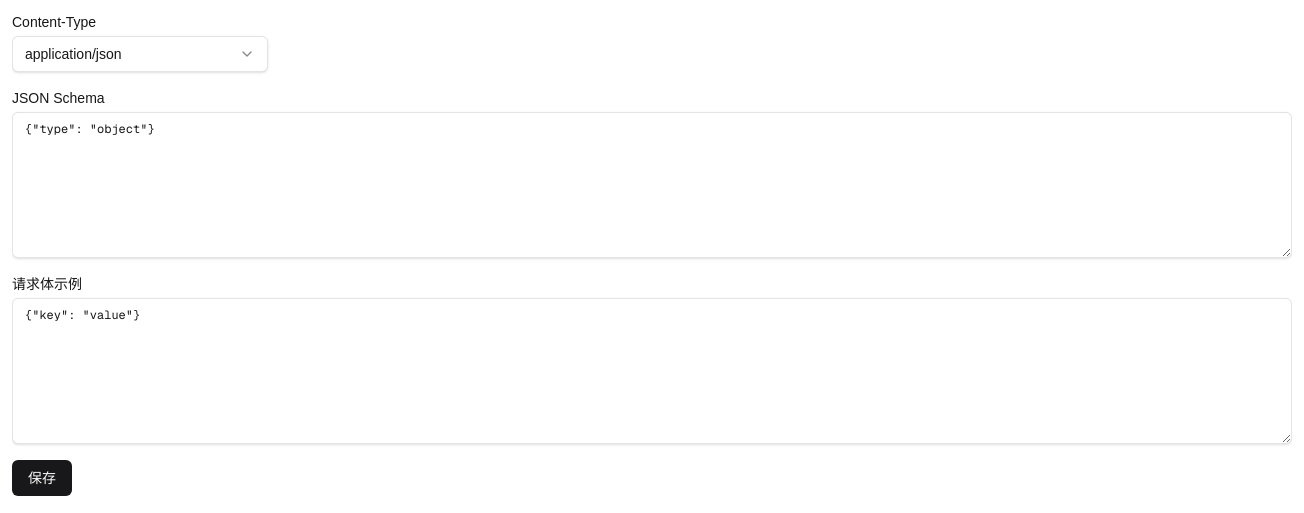
RequestBodyPanel › renders all content type options
Click the dropdown. click: (140, 54)
box: [12,36,268,72]
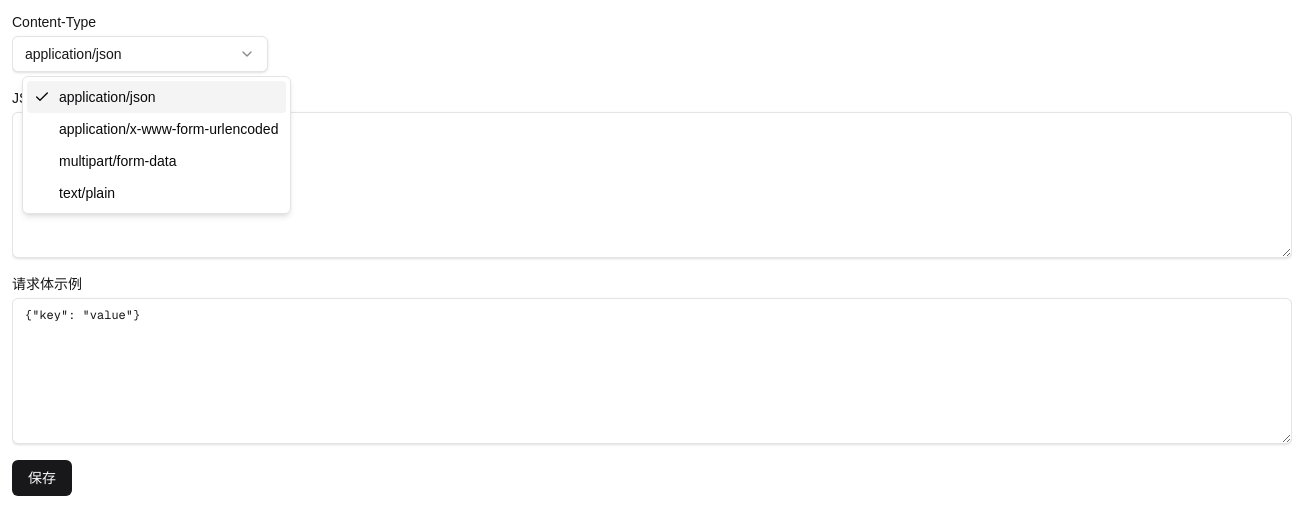
Now the text "application/x-www-form-urlencoded" is shown, box [59,119,278,139]
Now the text "multipart/form-data" is shown, box [59,151,176,171]
Now the text "text/plain" is shown, box [59,183,115,203]
